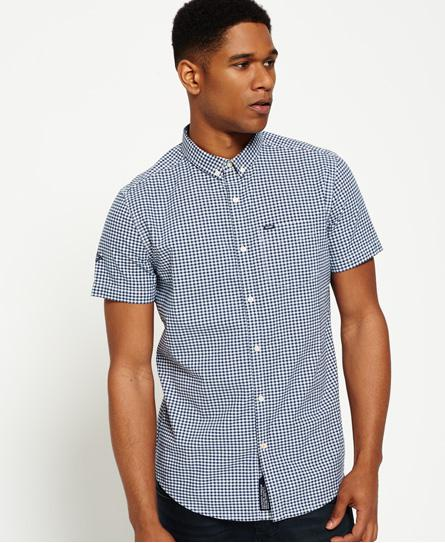teeshirt: (86, 125, 388, 525)
